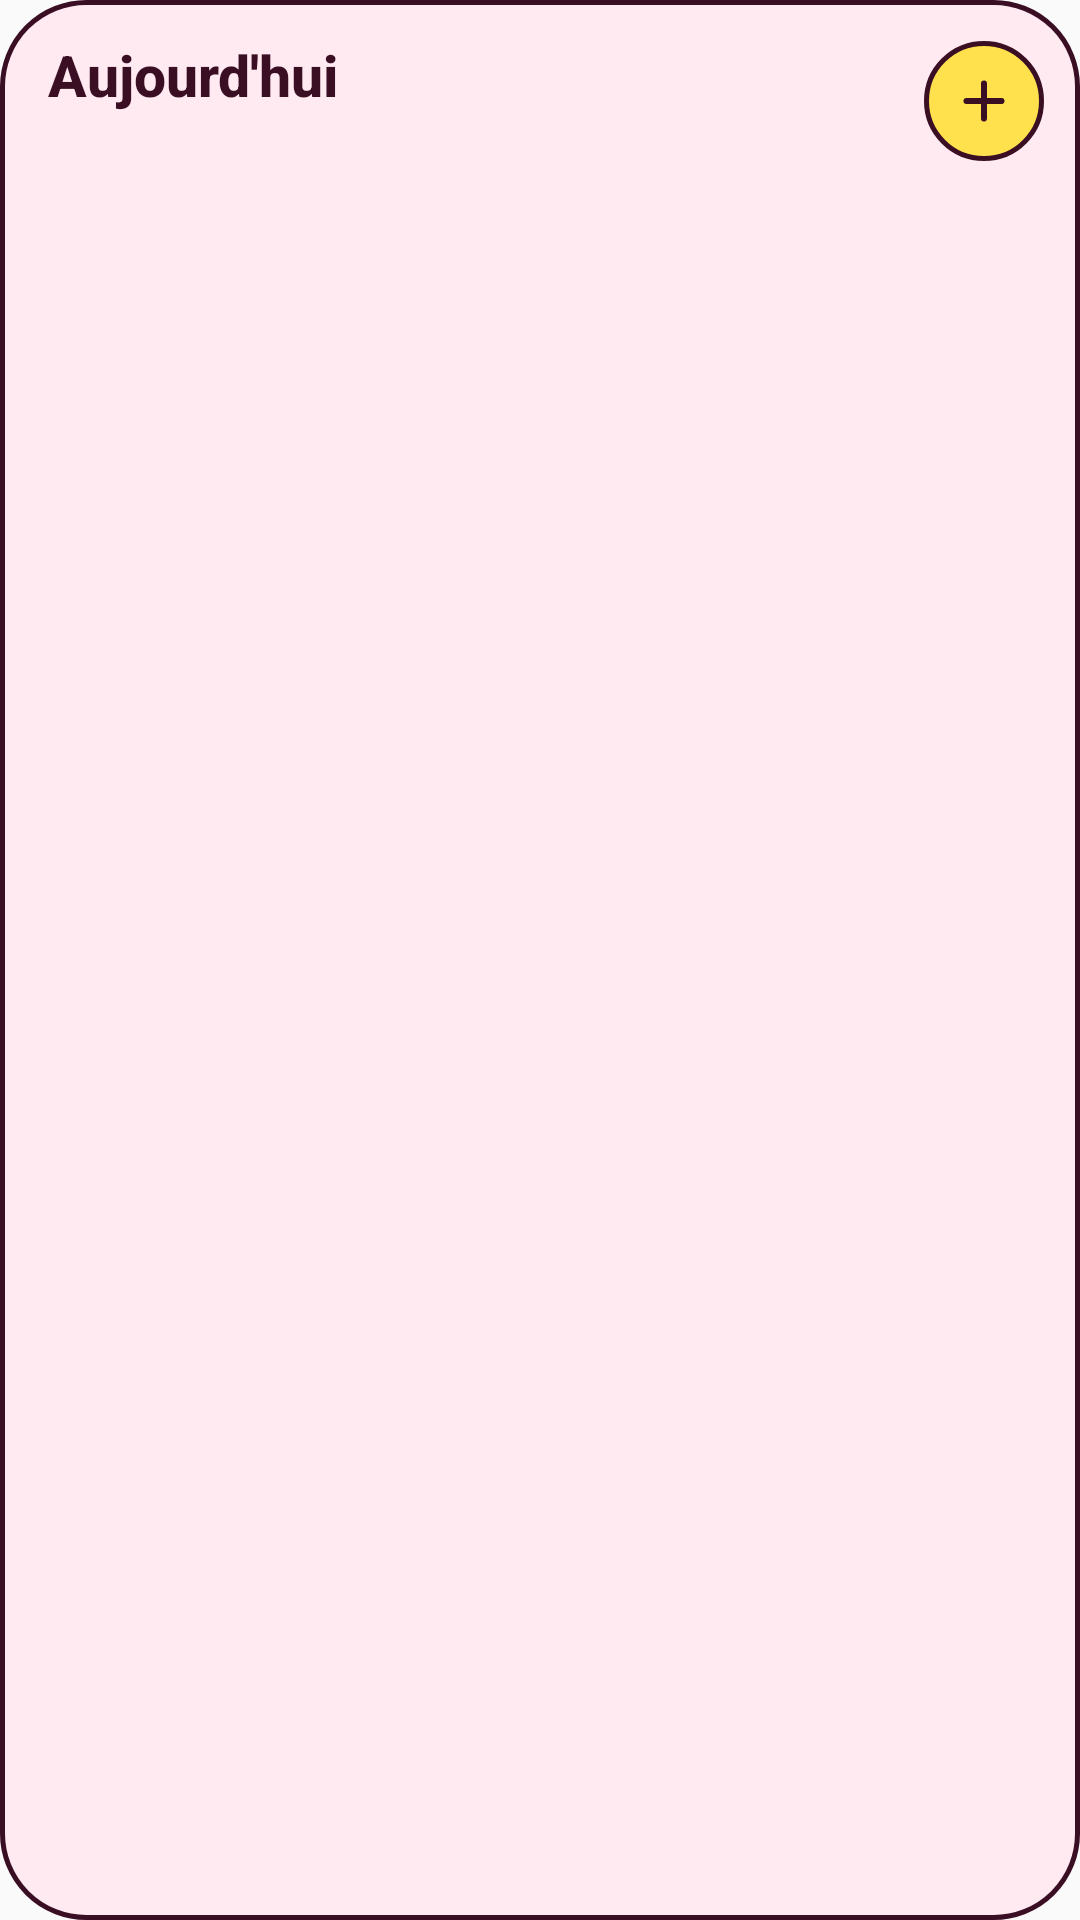

Point at icon controls on the screen. Image size 1080x1920, points as (x,y).
widget plus: (984,101)
